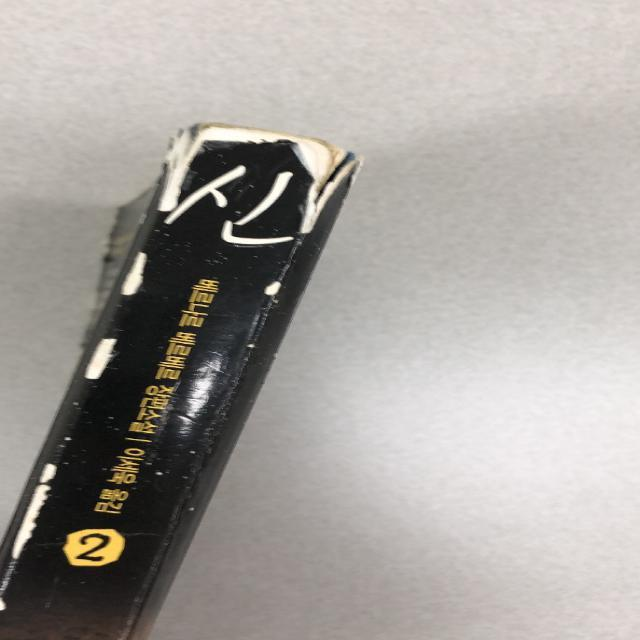Ripped: (138, 113, 286, 225), (287, 128, 374, 241)
Wornout: (6, 458, 64, 560), (75, 333, 125, 381), (118, 249, 152, 297), (257, 276, 291, 298)
